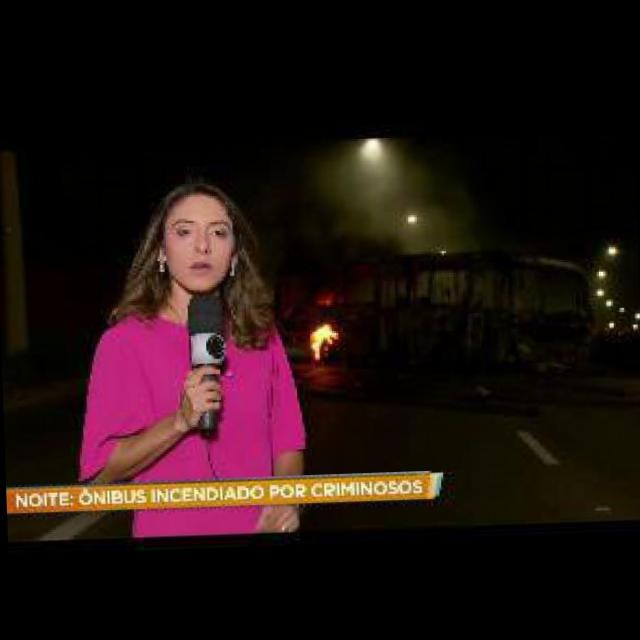fire: (302, 319, 340, 362)
